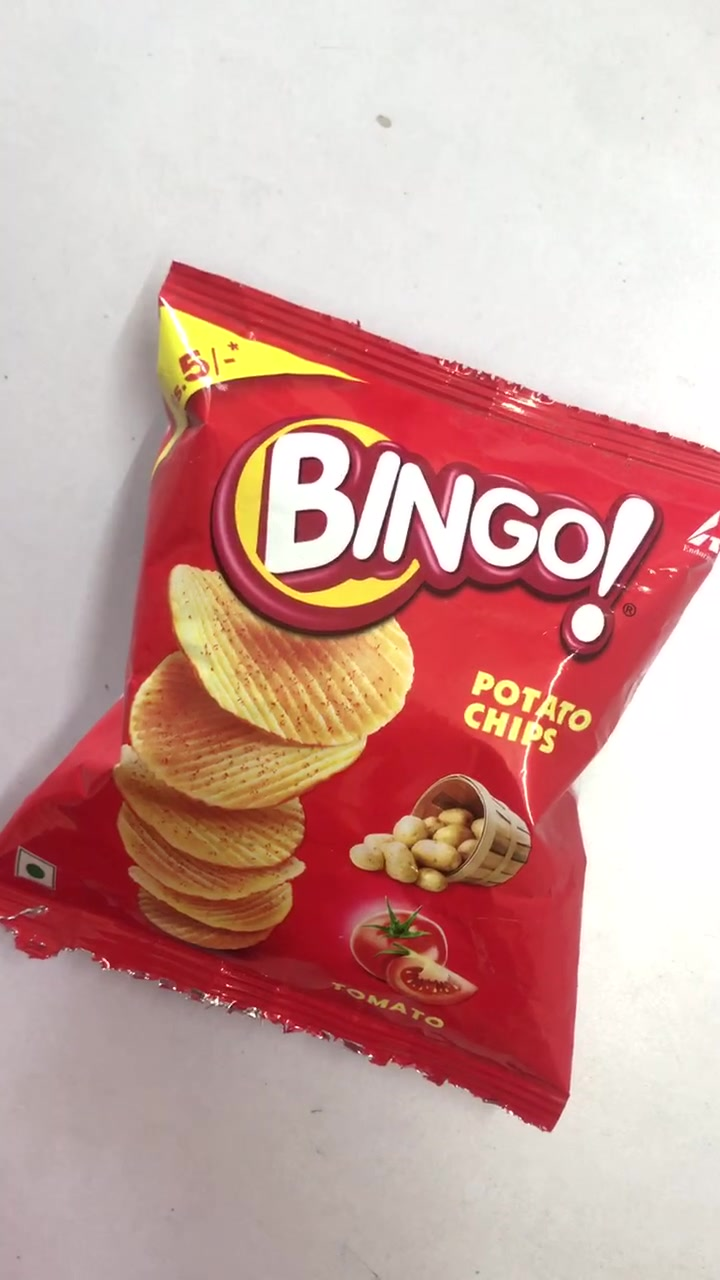Bingo: (8, 271, 720, 1124)
